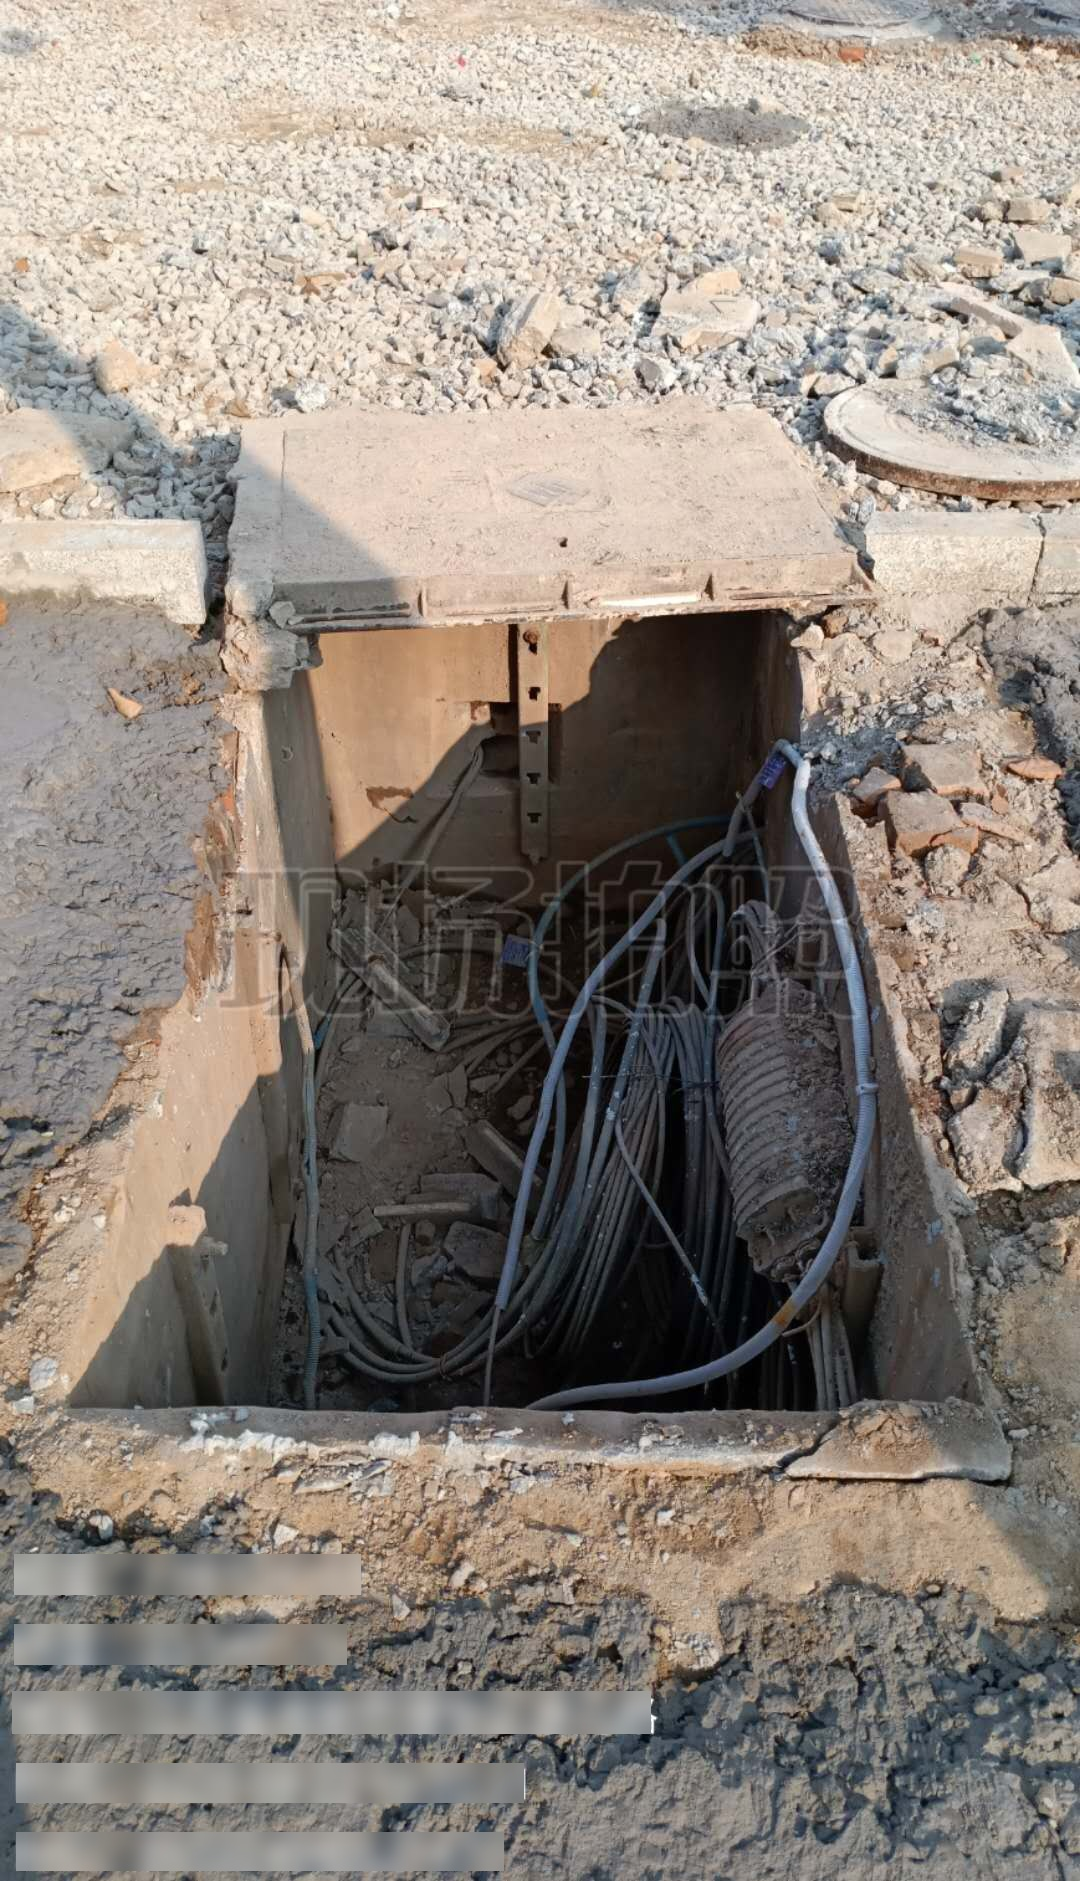lose: (12, 587, 1015, 1492)
